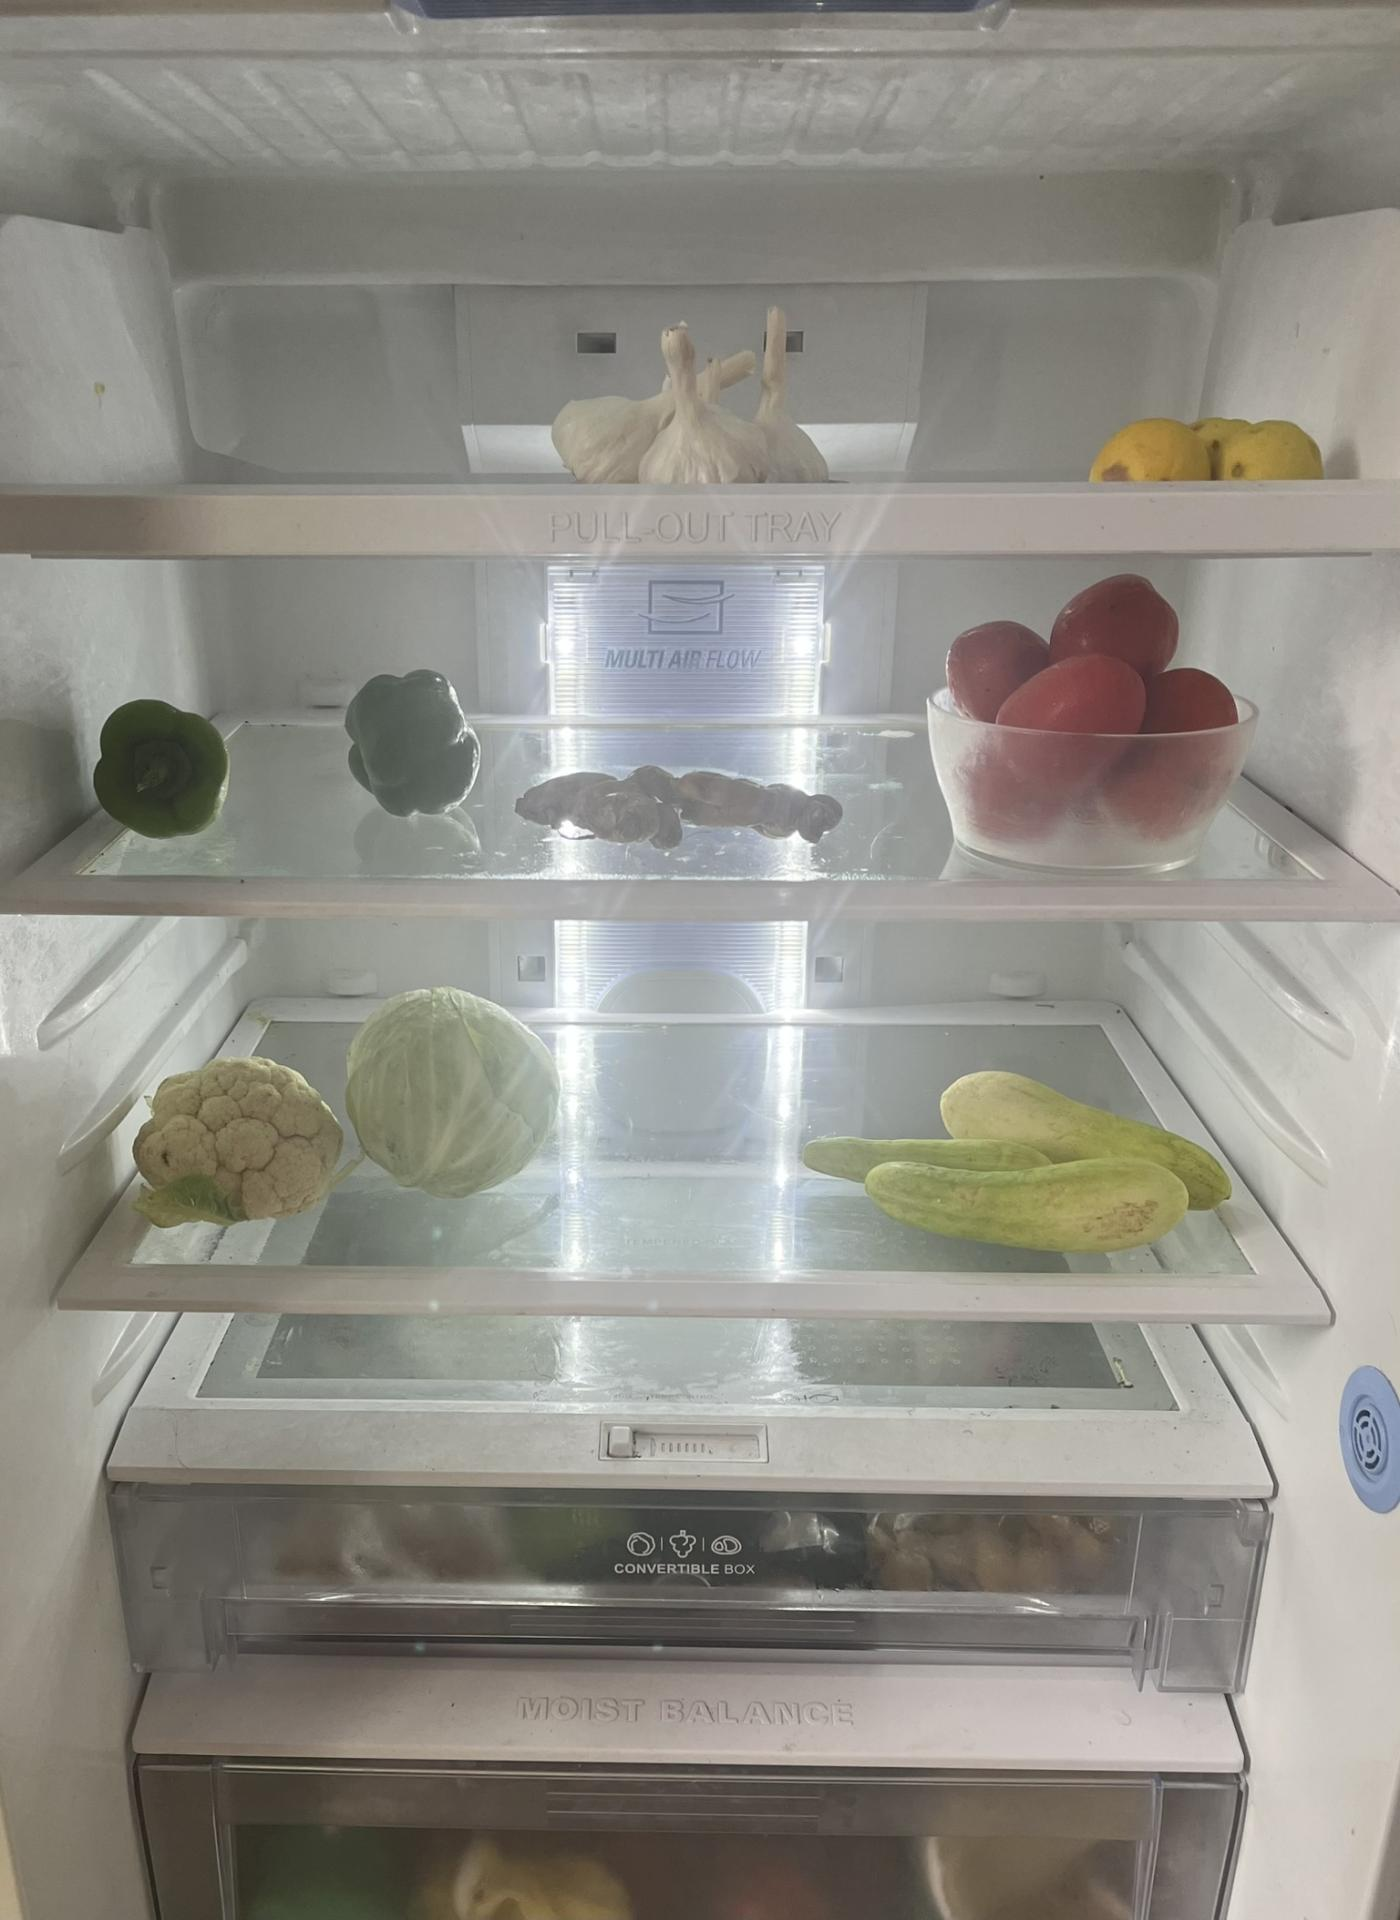cabbage: (347, 979, 556, 1188)
capsicum: (341, 665, 482, 815), (91, 698, 228, 841)
cauliflower: (130, 1049, 338, 1224)
cucumber: (793, 1073, 1246, 1257)
garlic: (552, 304, 832, 489)
ginger: (525, 766, 847, 853)
lemon: (1093, 397, 1330, 481)
tomato: (938, 568, 1246, 845)
